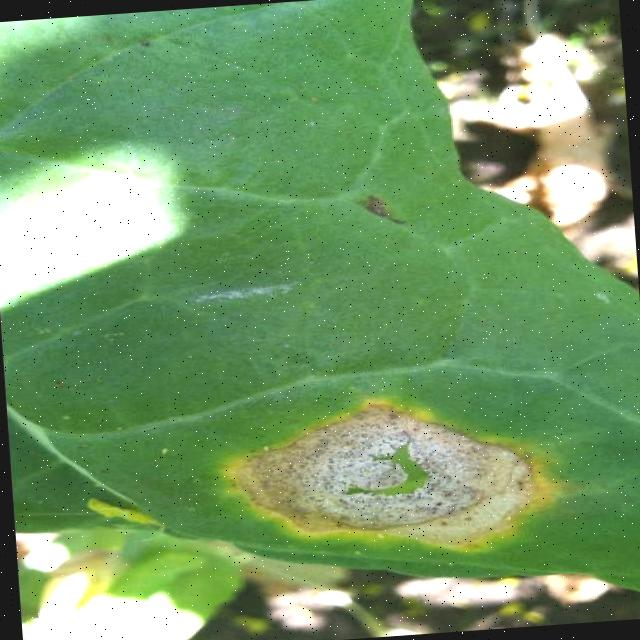Bacterial: (195, 311, 594, 571)
